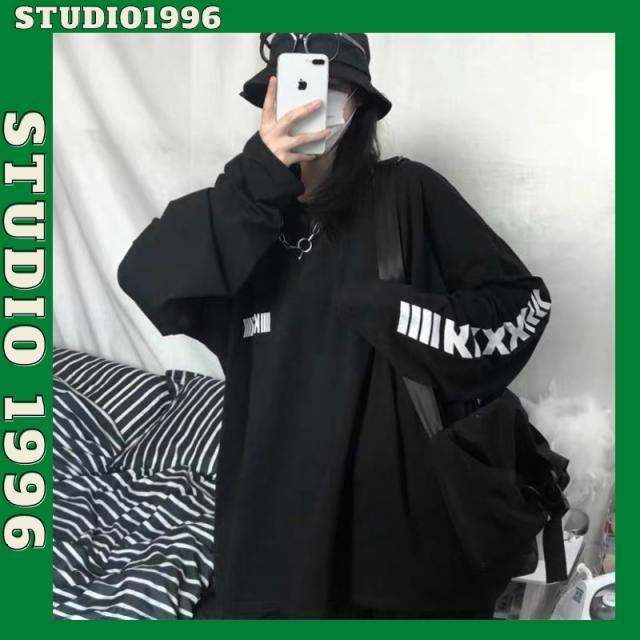Shirt: (114, 119, 552, 620)
